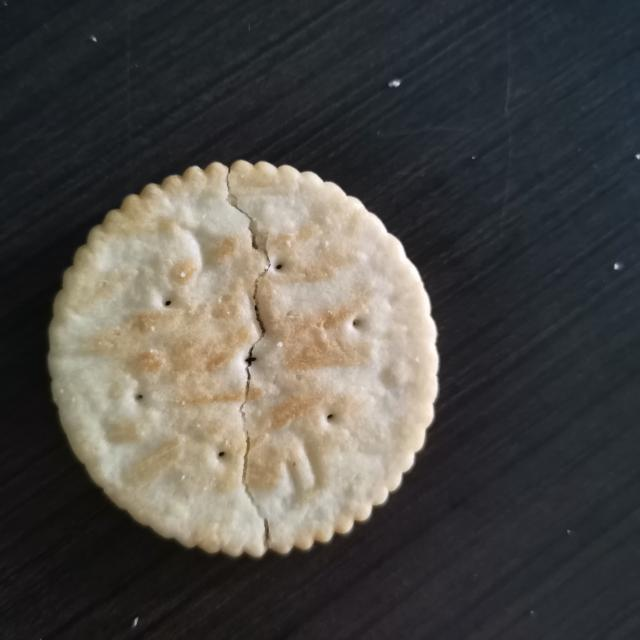Fracture: (203, 143, 295, 553)
